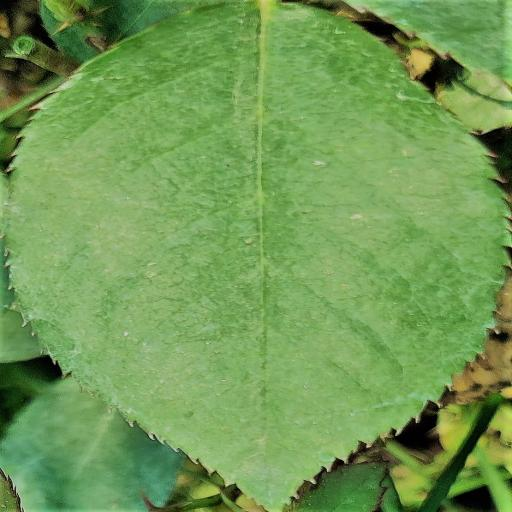healthy_leaf: (5, 0, 509, 512)
